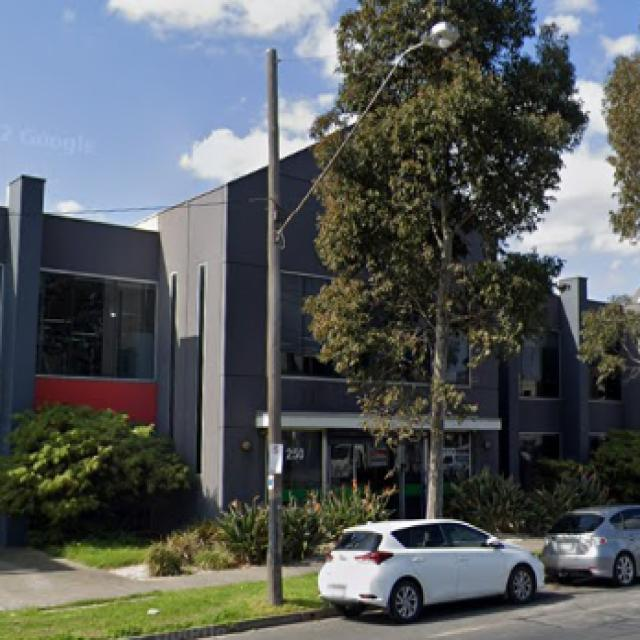streetlight: (273, 20, 461, 243)
timber-pole: (264, 47, 282, 607)
